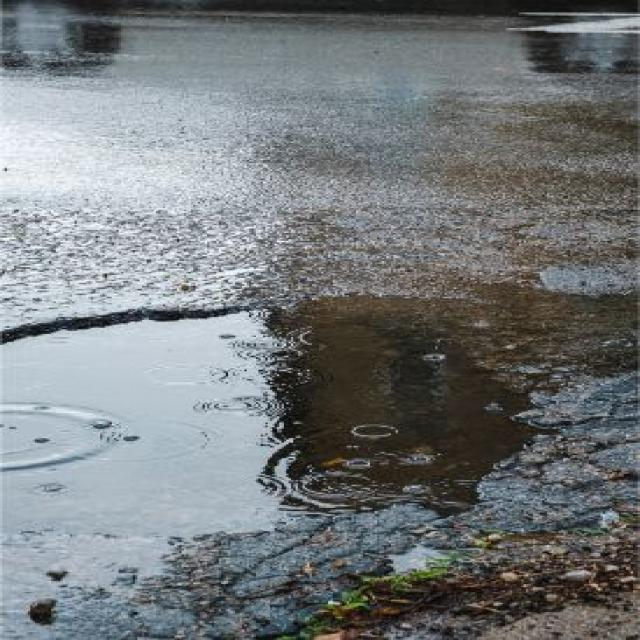pothole: (0, 273, 586, 545)
